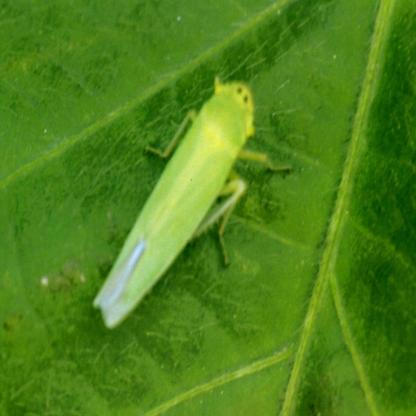Green-Leafhopper: (90, 66, 290, 332)
